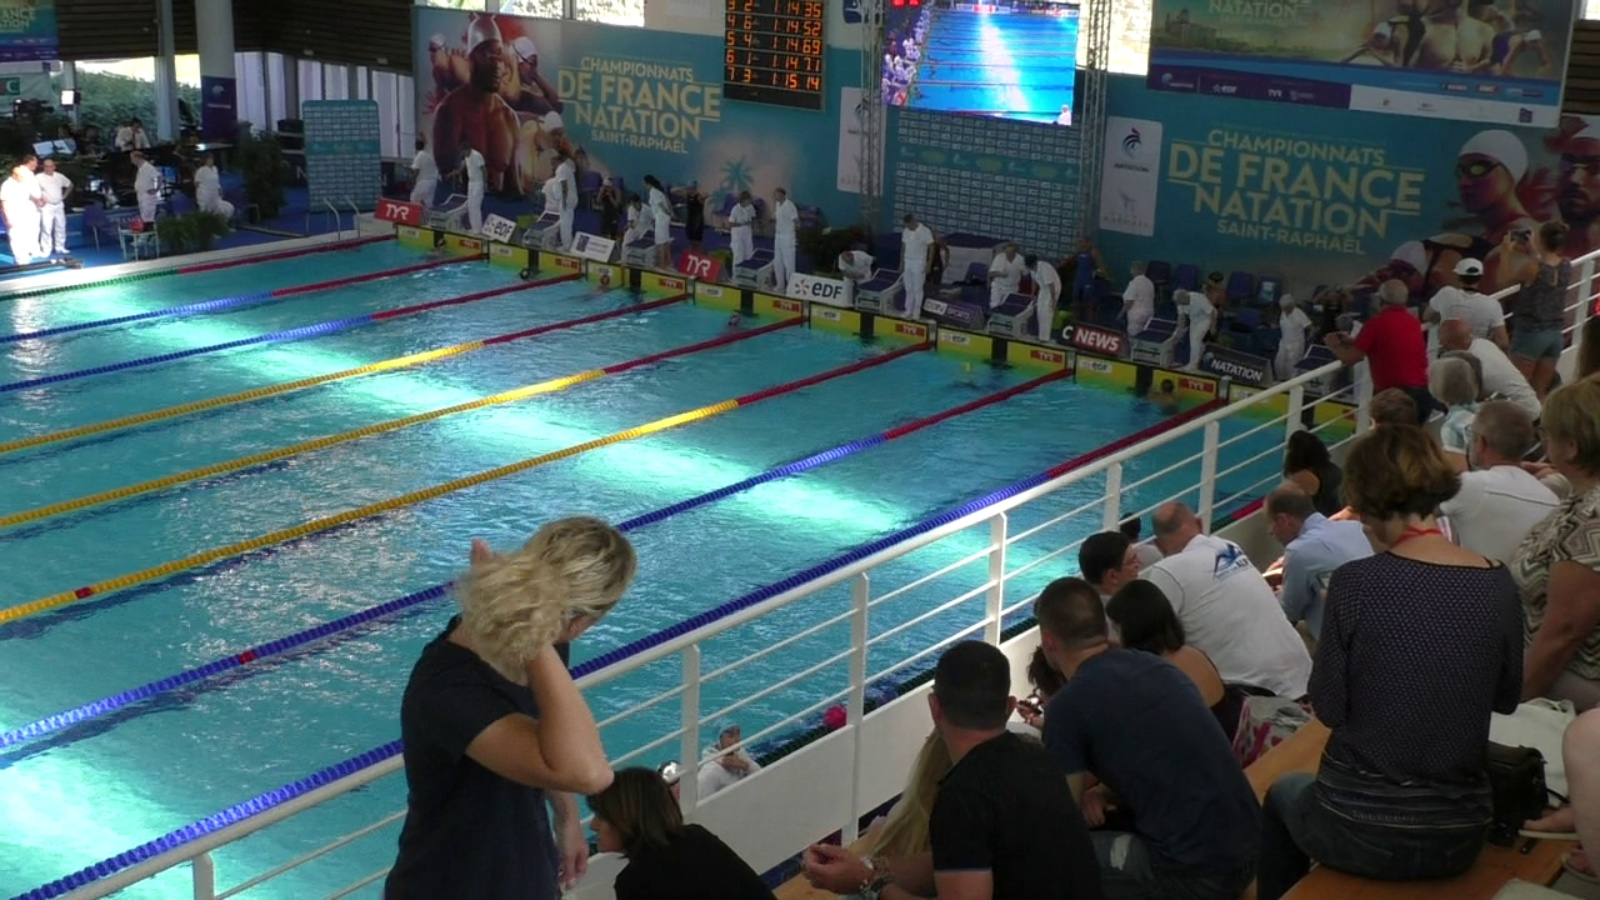swimmerw: (1138, 369, 1195, 424), (847, 338, 899, 369), (712, 314, 754, 346), (949, 359, 978, 395), (586, 270, 616, 301), (511, 263, 537, 290), (427, 237, 451, 262)
